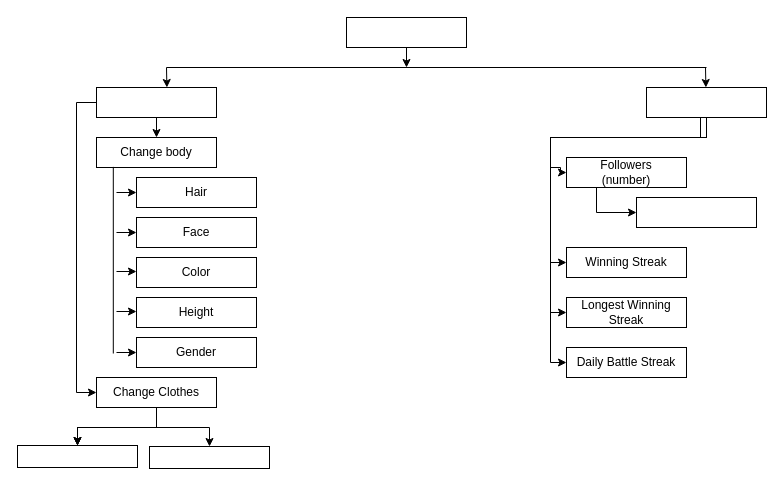
This 784x486 diagram has some shape labels left out. Here are the shapes that lost their labels. From the top down, the centre of each, then its label:
At point (406, 32): "Profile".
At point (156, 102): "Edit Avatar".
At point (706, 102): "Dashboard".
At point (696, 212): "List of Followers".
At point (77, 456): "Save Changes".
At point (209, 457): "Delete Changes".
